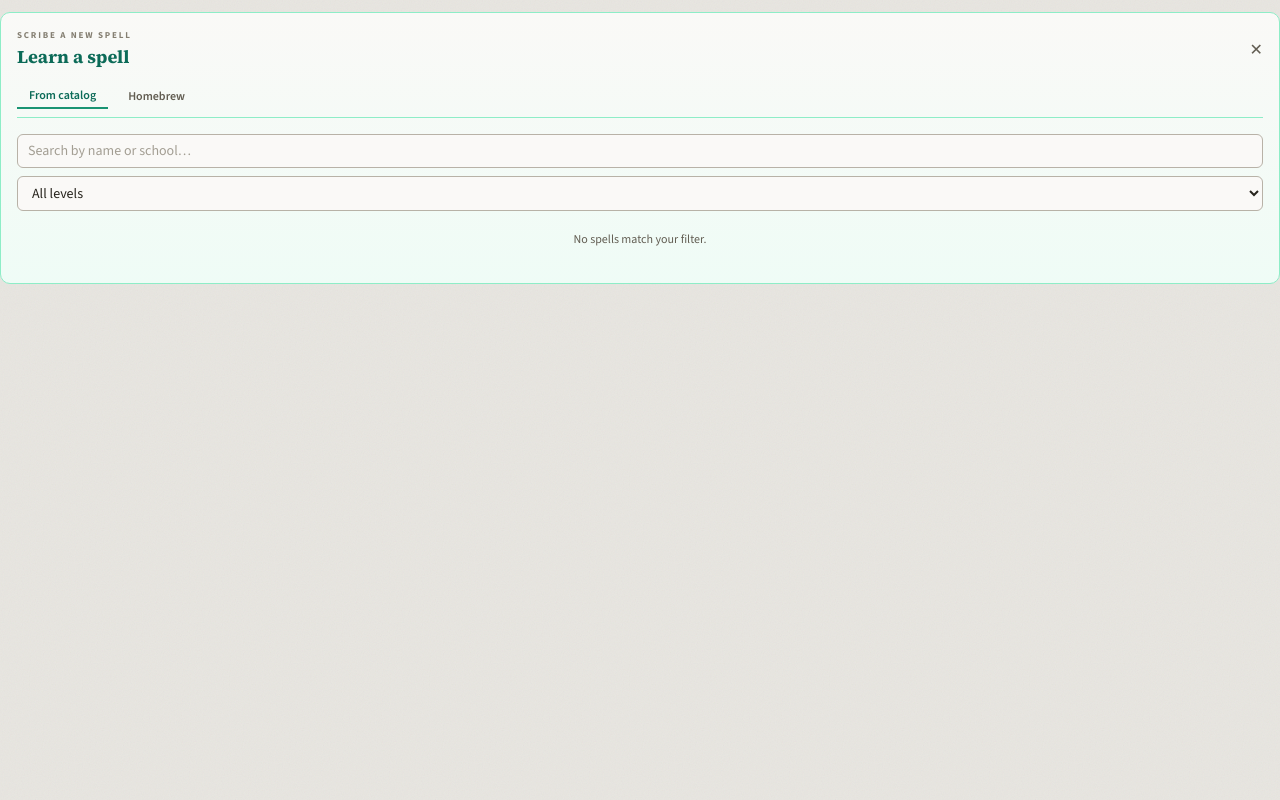
Test: AddSpellPanel homebrew tab integration › switches to the catalog tab and refetches after a homebrew spell is created
The width and height of the screenshot is (1280, 800).
Click the button "Homebrew" at (157, 96), box [116,82,197,108]
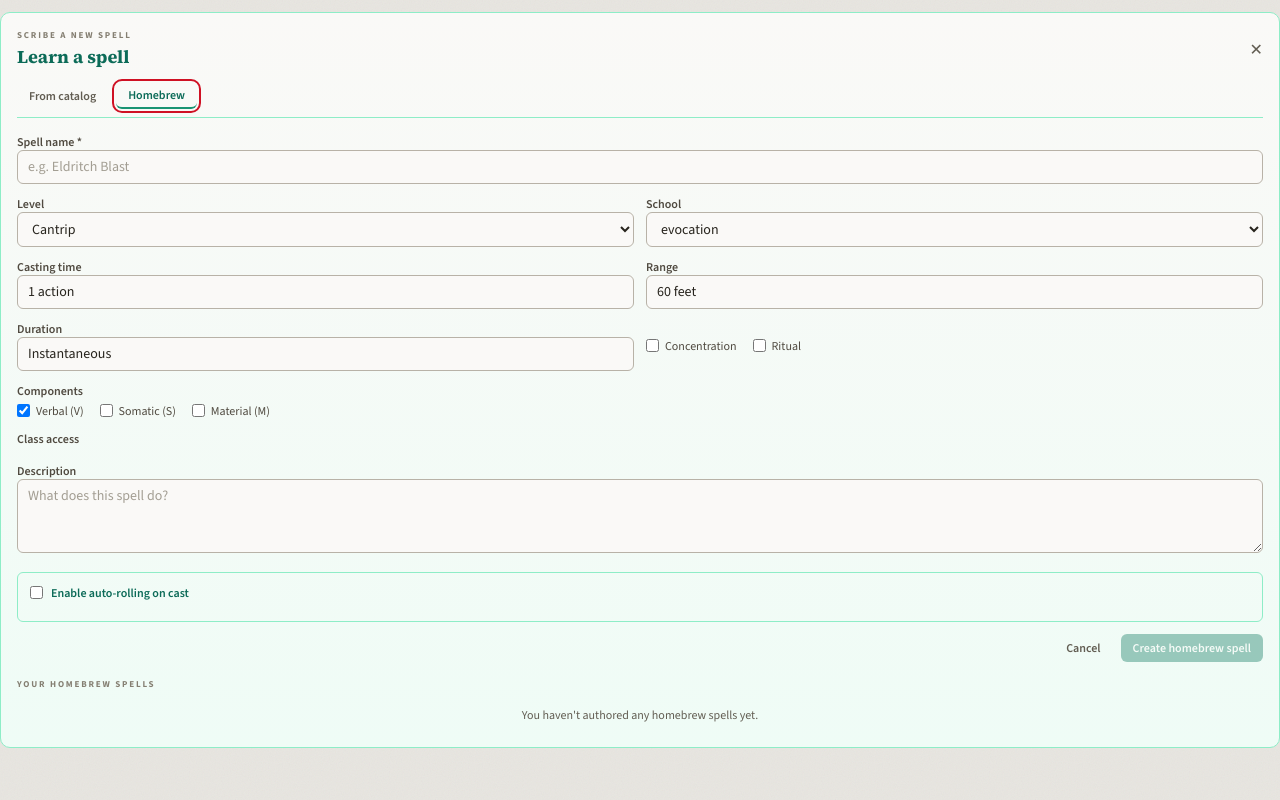
Type "Test Bolt" into the field labelled "Spell name *" at (640, 166), box [17,150,1263,184]
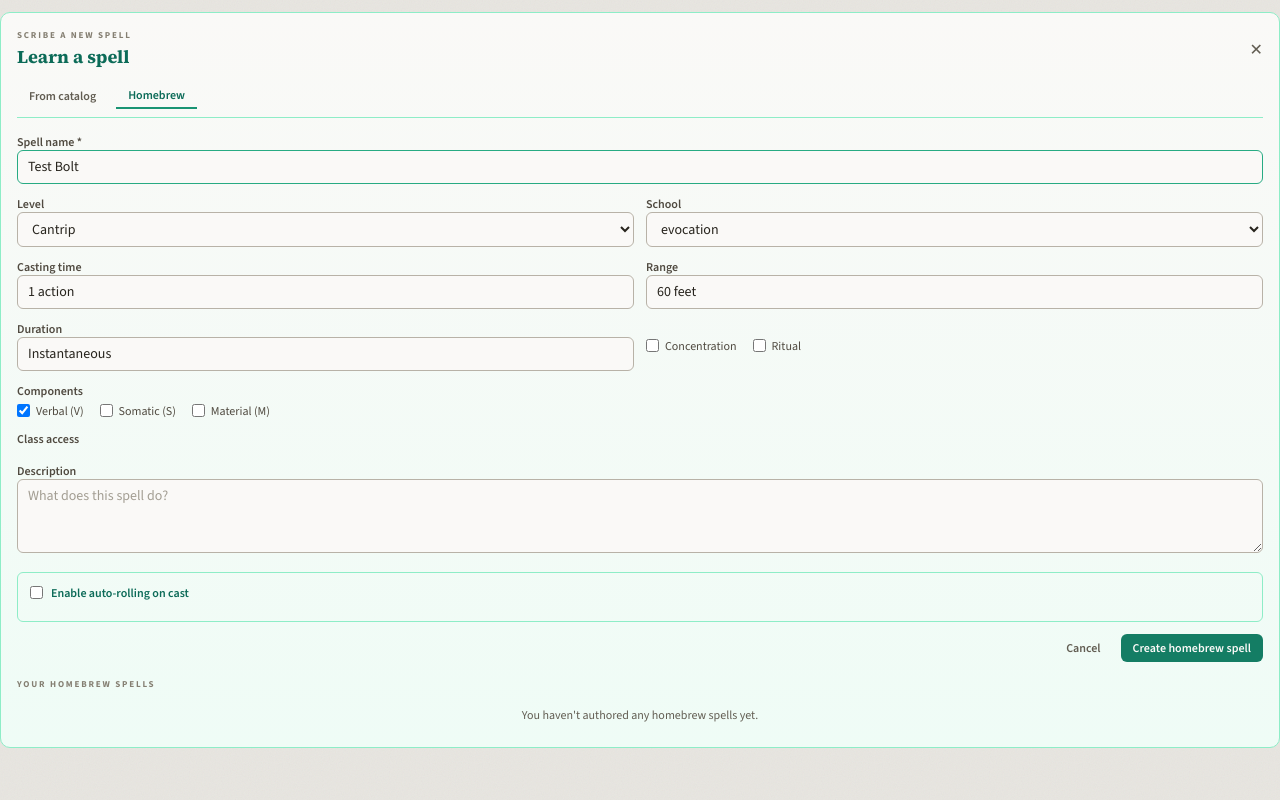
Type "A bolt of test energy." into the text box labelled "Description" at (640, 516), box [17,478,1263,552]
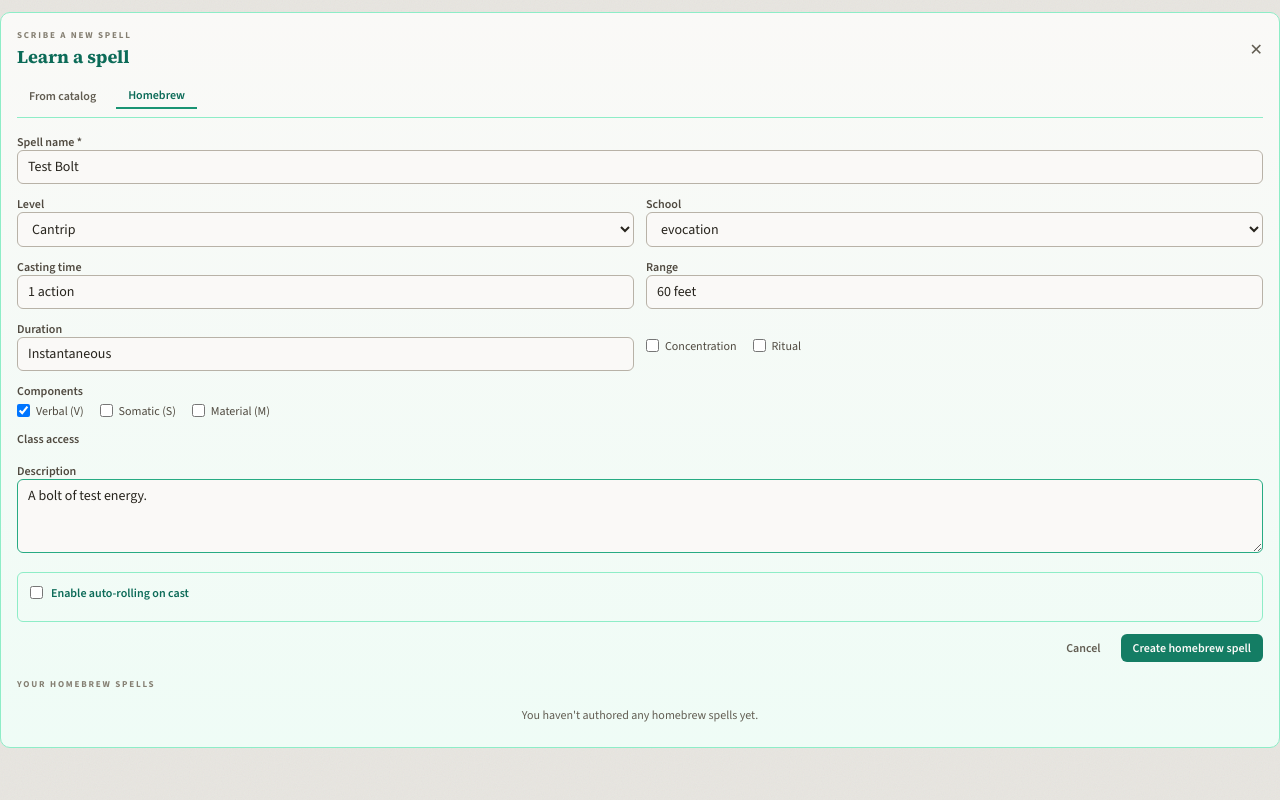
Click the button "Create homebrew spell" at (1192, 648), box [1121,634,1263,662]
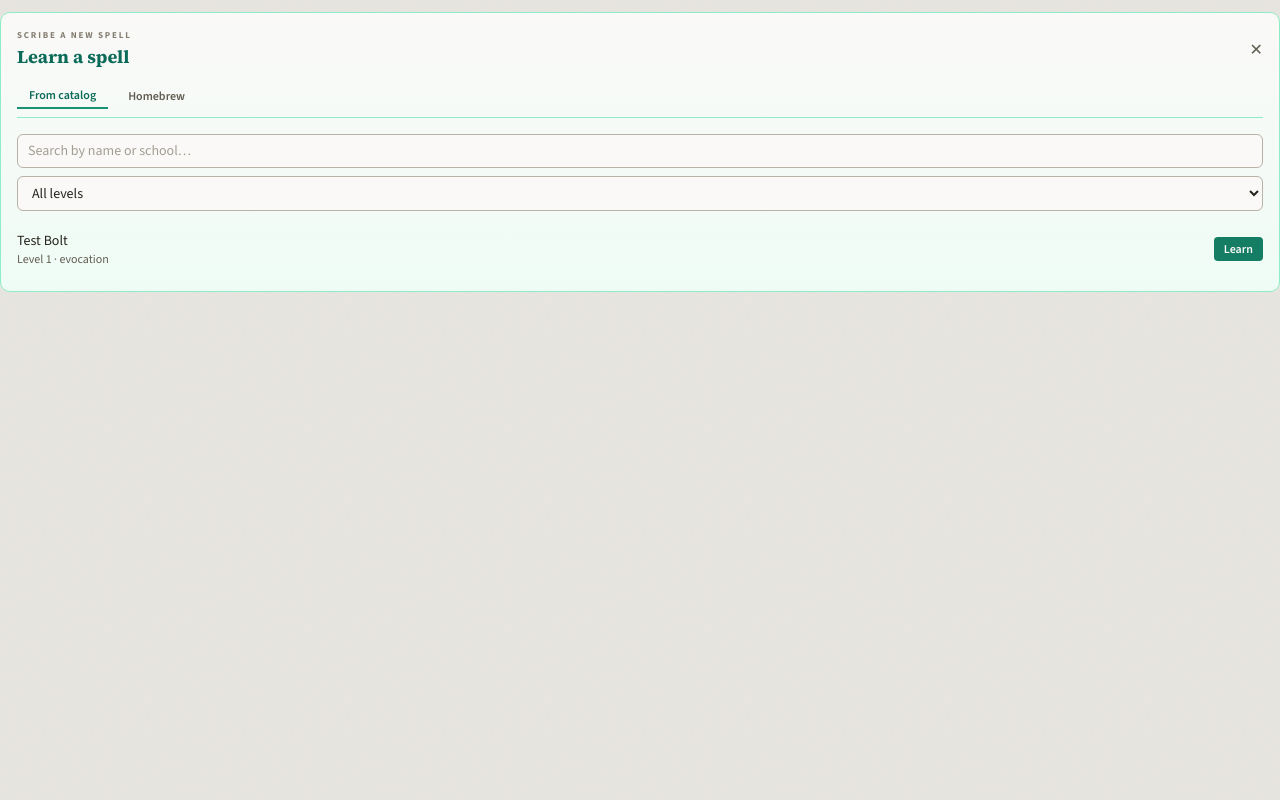
Check: the text "Test Bolt" is shown, box [17,230,68,250]
